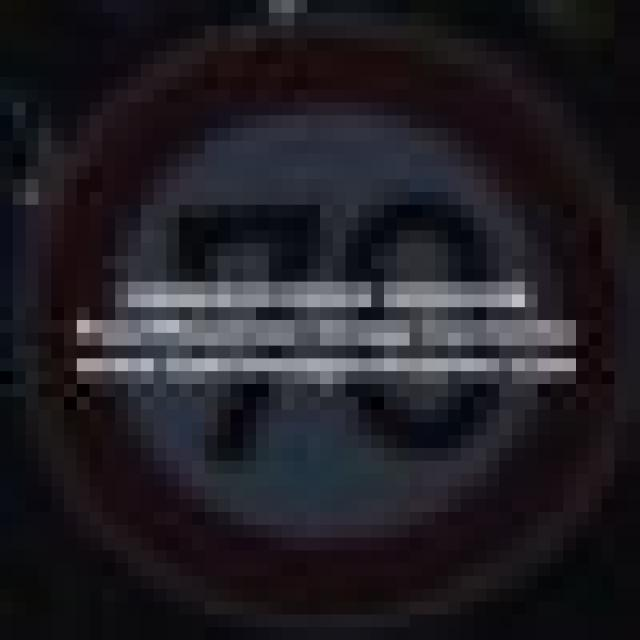SPEED_LIMIT_70: (26, 39, 602, 602)
